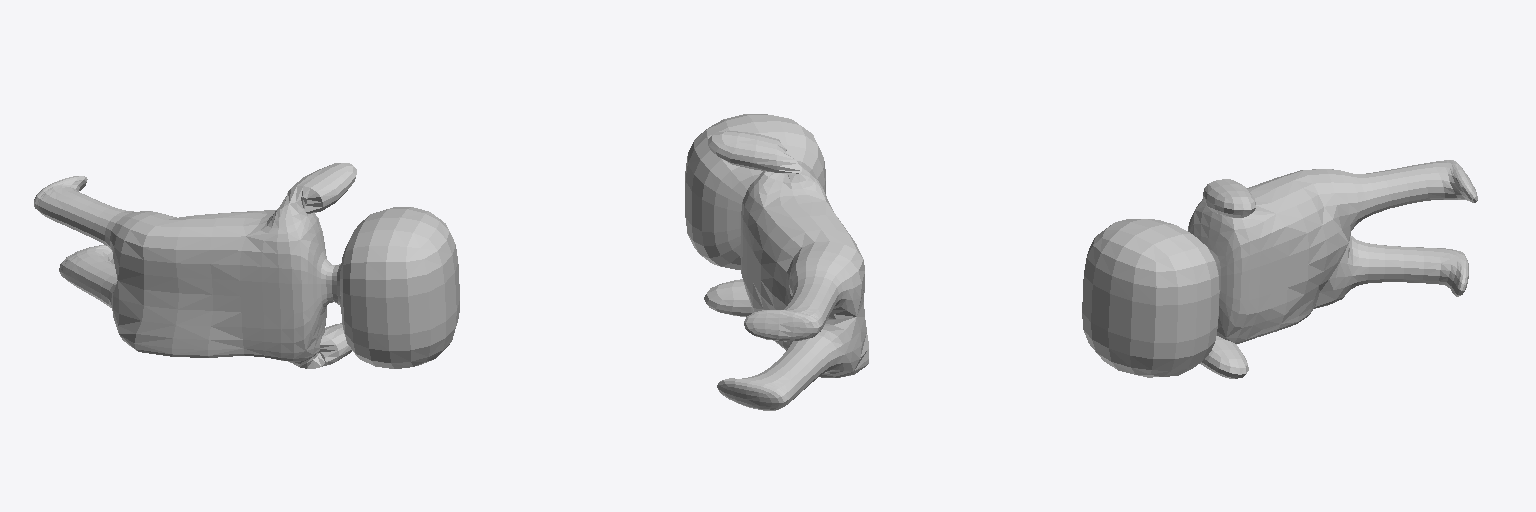
The model's file is antman_push_5.obj.
The picture shows the model from 3 angles: view 1: azimuth 30°, elevation 25°; view 2: azimuth 150°, elevation 25°; view 3: azimuth 270°, elevation 25°; orthographic projection.
Visible parts, largest first — view 1: Cube; view 2: Cube; view 3: Cube.
Part boxes in pixels (x1,y1,x2,y2): Cube: (34, 163, 459, 368); Cube: (685, 114, 868, 410); Cube: (1082, 160, 1477, 378).
Bounding box in the file's own units: 1.31 × 0.8339 × 1.64.